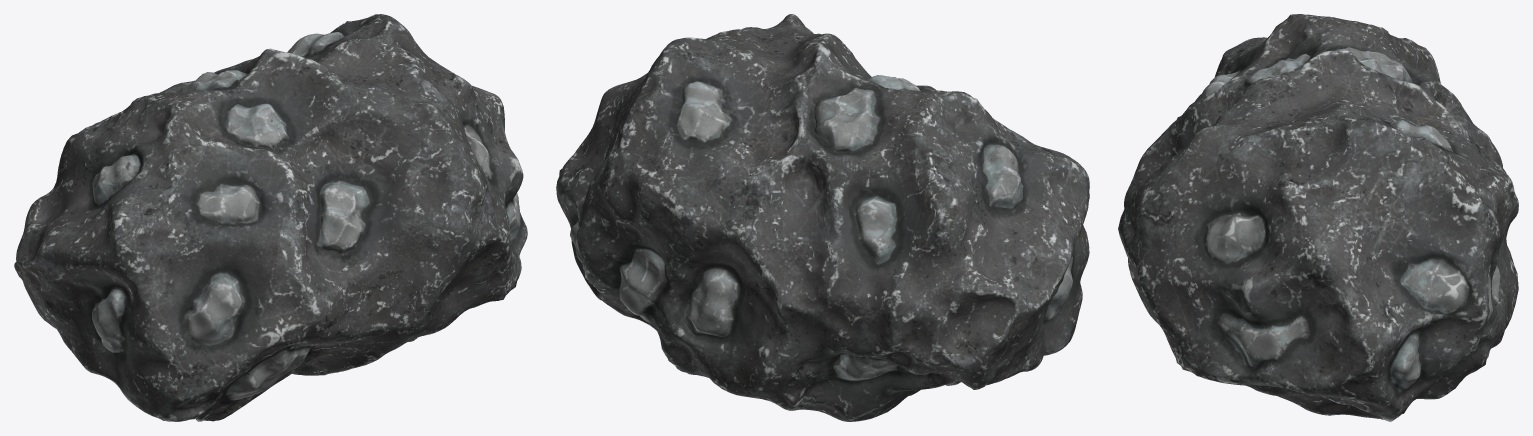
3 renders of one model, left to right at view 1: azimuth 30°, elevation 25°; view 2: azimuth 150°, elevation 25°; view 3: azimuth 270°, elevation 25°, orthographic. The views are drawn at different scales.
Visible parts, largest first — view 1: Asteroid1c_0; view 2: Asteroid1c_0; view 3: Asteroid1c_0.
Part boxes in pixels (bbox=[...]): Asteroid1c_0: bbox=[14, 14, 527, 421]; Asteroid1c_0: bbox=[556, 14, 1089, 421]; Asteroid1c_0: bbox=[1118, 14, 1518, 421].
Size of the model in its own units: 324 by 207 by 226.
